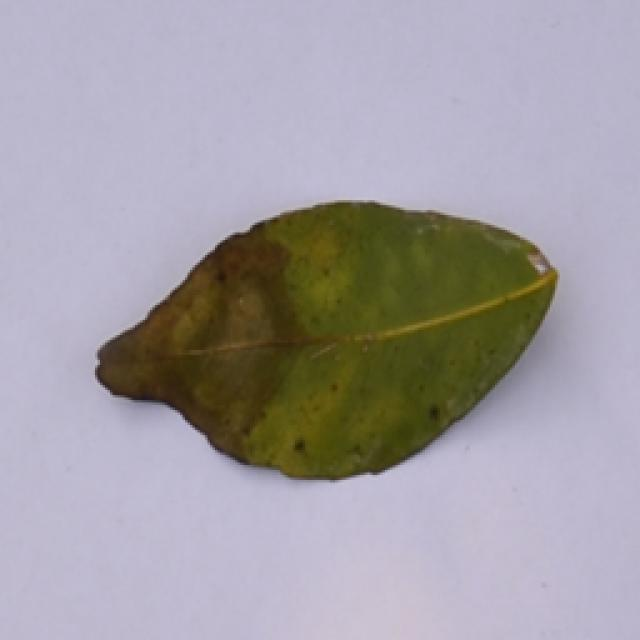blackspot: (64, 169, 588, 497)
